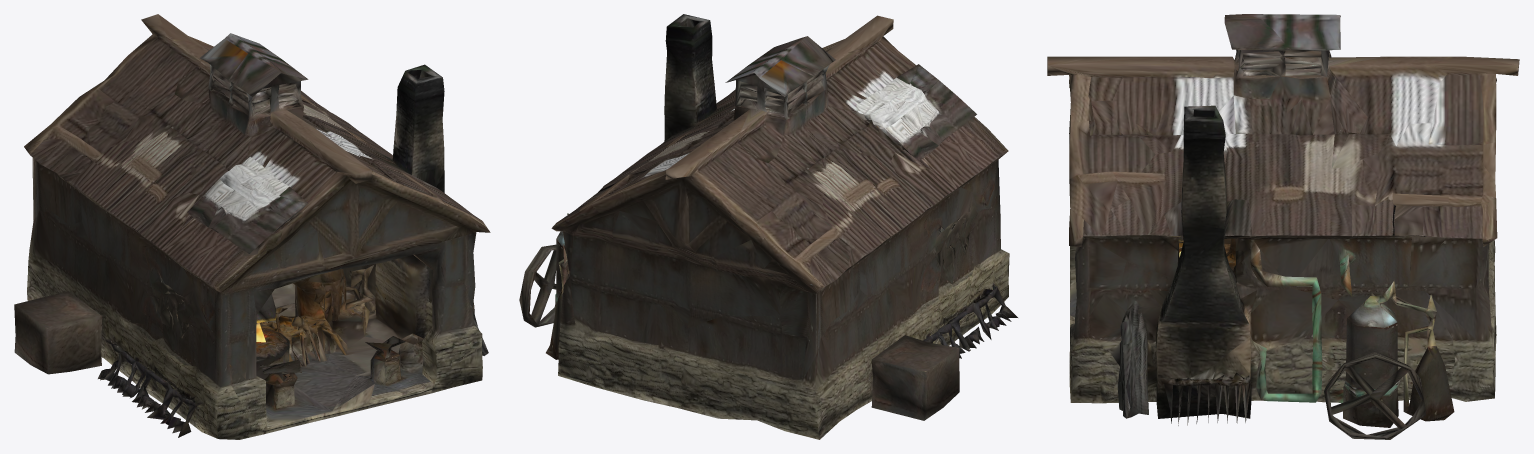
Rendered from forge.glb.
3 views of the same model, side by side, from view 1: azimuth 30°, elevation 25°; view 2: azimuth 150°, elevation 25°; view 3: azimuth 270°, elevation 25° (orthographic). The views are drawn at different scales.
Parts seen in each view (by area): view 1: mesh_node; view 2: mesh_node; view 3: mesh_node.
Boxes of the visible parts, x1,y1,x2,y2 form: mesh_node: (14, 14, 490, 439); mesh_node: (519, 14, 1017, 439); mesh_node: (1047, 14, 1519, 439).
Bounding box in the file's own units: 1.89 × 1.33 × 1.78.
Materials: 1 (1 with a texture image).
